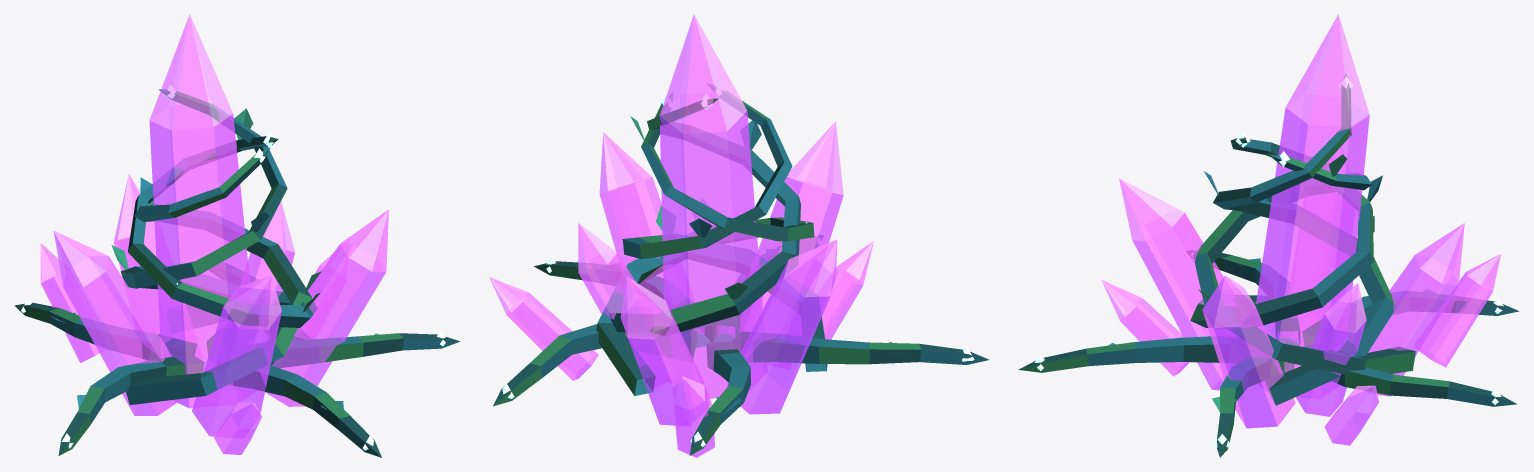
Rendered from Nyxium - Cluster A-DHYr_QQ6.glb.
3 views of the same model, side by side, from view 1: azimuth 30°, elevation 25°; view 2: azimuth 150°, elevation 25°; view 3: azimuth 270°, elevation 25° (orthographic). The views are drawn at different scales.
Parts seen in each view (by area): view 1: crystal, vines, buds; view 2: crystal, vines, buds; view 3: crystal, vines, buds.
Part boxes in pixels (left/top/right/bottom): crystal: left=40, top=14, right=388, bottom=454; vines: left=14, top=89, right=460, bottom=457; buds: left=21, top=85, right=445, bottom=453; crystal: left=489, top=14, right=873, bottom=457; vines: left=493, top=84, right=989, bottom=455; buds: left=499, top=83, right=974, bottom=447; crystal: left=1101, top=14, right=1500, bottom=445; vines: left=1018, top=74, right=1518, bottom=457; buds: left=1034, top=77, right=1503, bottom=447.
Bounding box in the file's own units: 0.892 × 0.7653 × 0.9152.
